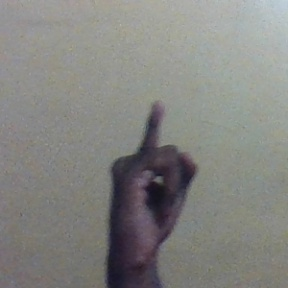I: (106, 100, 205, 266)
